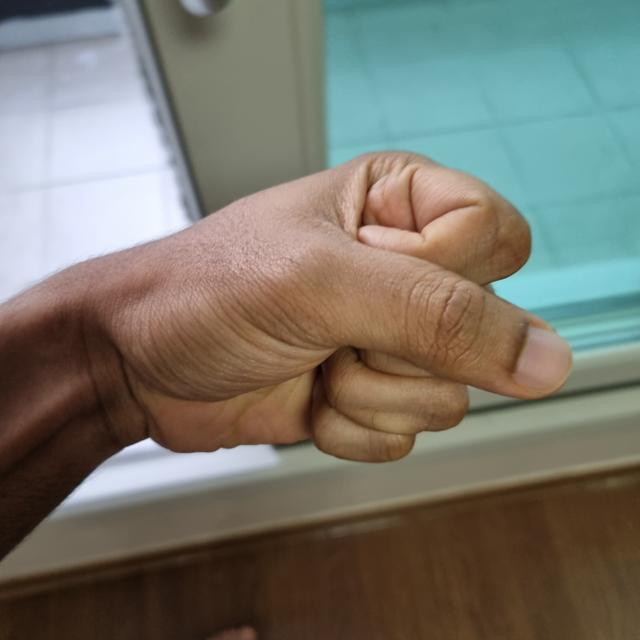Rock: (37, 152, 568, 463)
